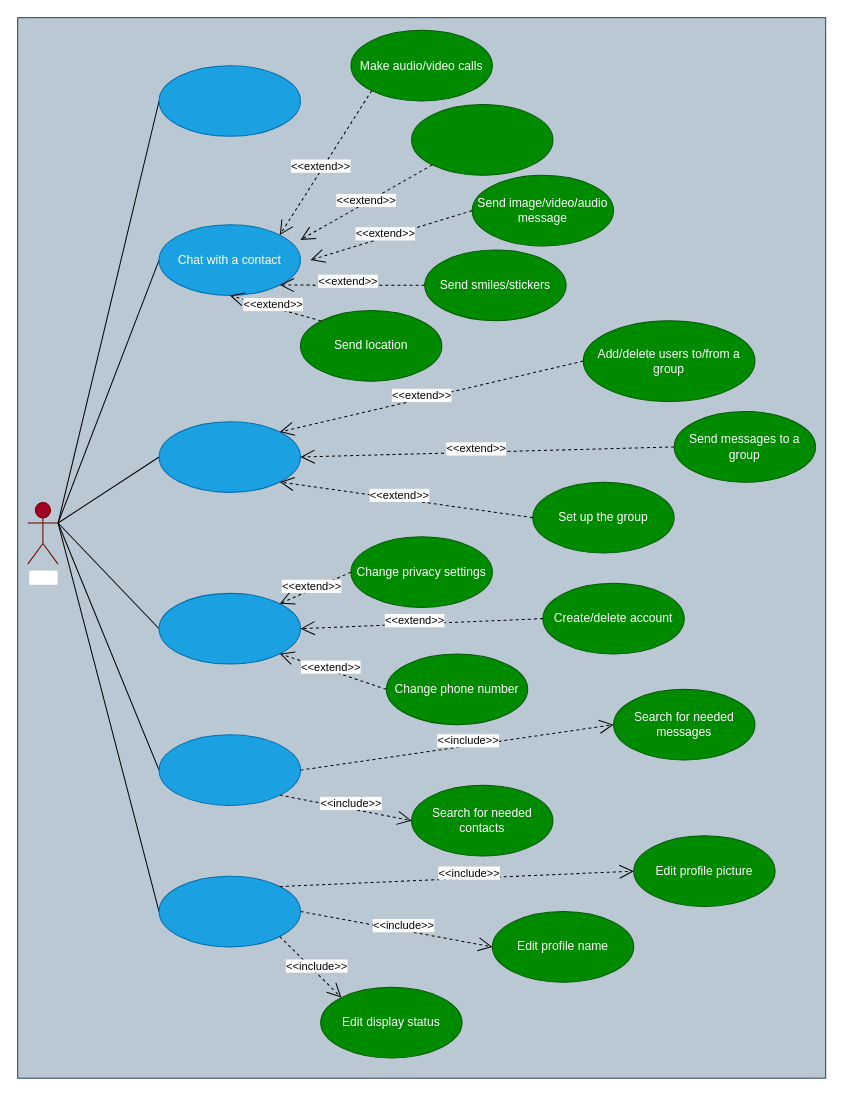
The diagram is 843 pixels wide and 1096 high, and some of its shapes have lost their labels. The shapes that lost their labels are listed below. From the top down, each one's box as (x1, y1, x2, y2) in pixels, then its label:
(158, 65, 300, 136): Create stickers
(411, 104, 553, 175): Send text message
(158, 421, 300, 492): Create user group
(158, 592, 300, 664): Manage Accounts
(158, 734, 300, 805): Find information
(158, 875, 300, 947): Change profile settings
